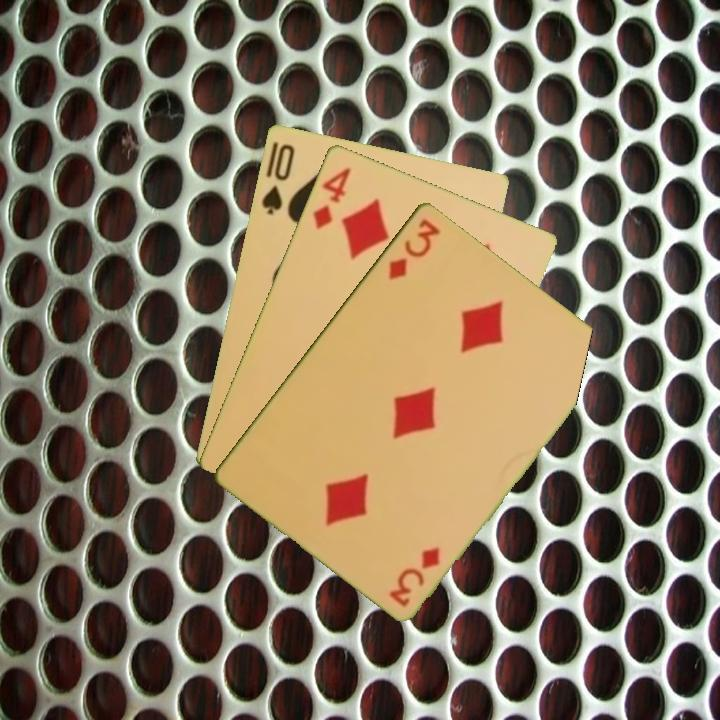10s: (257, 140, 297, 217)
3d: (384, 214, 443, 282), (385, 542, 443, 609)
4d: (309, 163, 354, 232)
